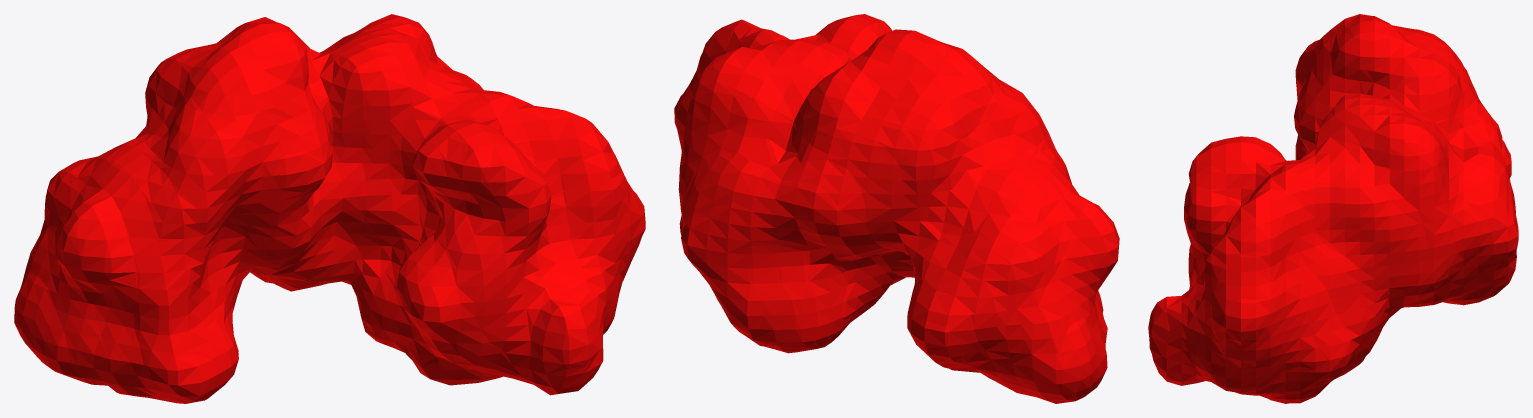
The model's file is Staphylococcal_nuclease_domain_coarse.dae.
3 views of the same model, side by side, from view 1: azimuth 30°, elevation 25°; view 2: azimuth 150°, elevation 25°; view 3: azimuth 270°, elevation 25° (orthographic). The views are drawn at different scales.
Parts seen in each view (by area): view 1: Staphylococcal_nuclease_domain; view 2: Staphylococcal_nuclease_domain; view 3: Staphylococcal_nuclease_domain.
Part boxes in pixels (x1,y1,x2,y2): Staphylococcal_nuclease_domain: (14, 14, 645, 403); Staphylococcal_nuclease_domain: (674, 14, 1119, 403); Staphylococcal_nuclease_domain: (1148, 14, 1518, 403).
Bounding box in the file's own units: 98.81 × 65.12 × 71.17.
